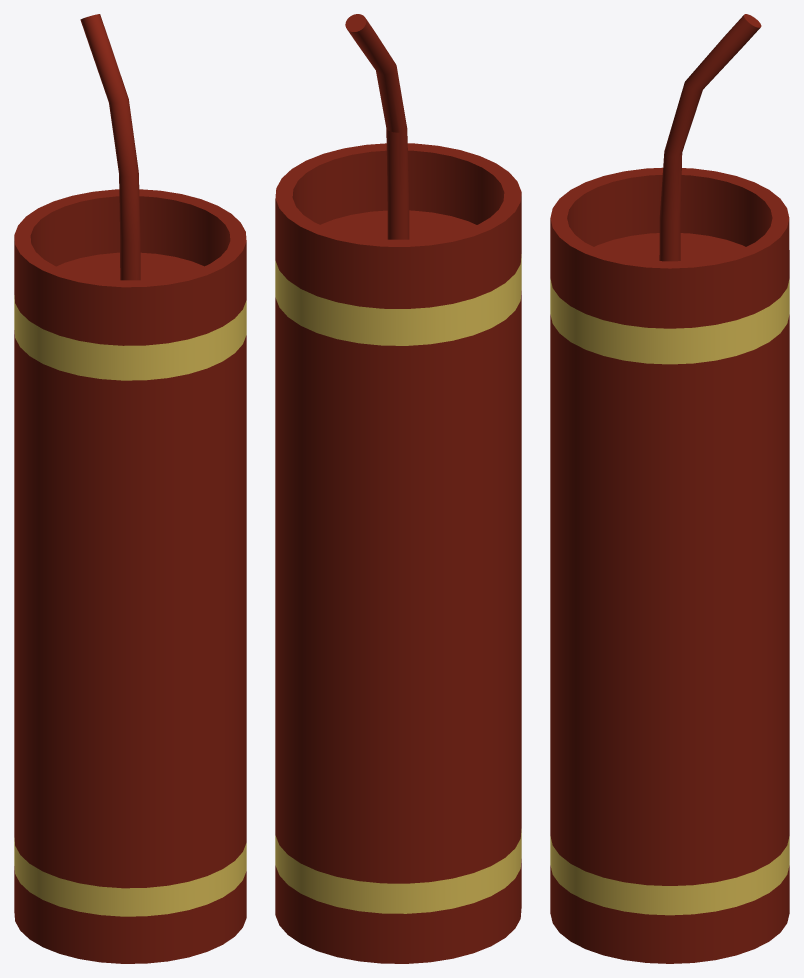
File: FireCracker 1.fbx
3 views of the same model, side by side, from view 1: azimuth 30°, elevation 25°; view 2: azimuth 150°, elevation 25°; view 3: azimuth 270°, elevation 25° (orthographic). The views are drawn at different scales.
Parts seen in each view (by area): view 1: Cylinder.013; view 2: Cylinder.013; view 3: Cylinder.013.
Boxes of the visible parts, box(x1,y1,x2,y2) form: Cylinder.013: box(14, 14, 246, 963); Cylinder.013: box(275, 14, 521, 963); Cylinder.013: box(550, 14, 789, 963).
Bounding box in the file's own units: 21.09 × 87.37 × 21.09.
